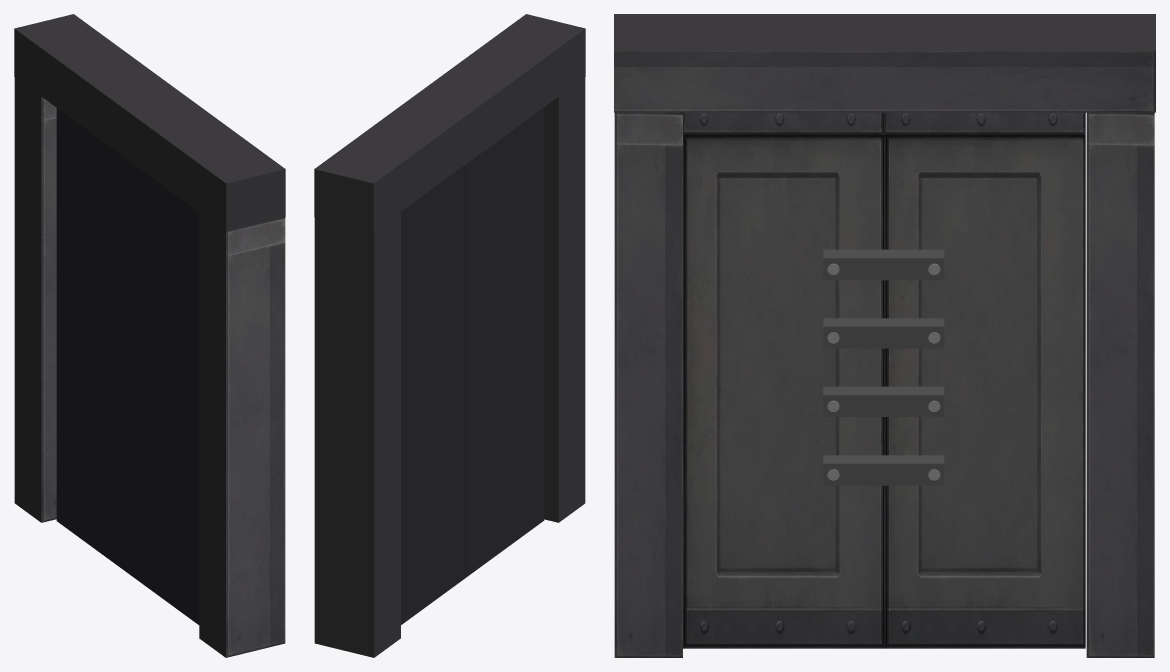
Rendered from porta.fbx.
3 renders of one model, left to right at view 1: azimuth 30°, elevation 25°; view 2: azimuth 150°, elevation 25°; view 3: azimuth 270°, elevation 25°, orthographic. The views are drawn at different scales.
Visible parts, largest first — view 1: Cube.004, Cube.000, Cube.001, Cube.003, Cube.002; view 2: Cube.002, Cube.001, Cube.000, Cube.003, Cube.004; view 3: Cube.000, Cube.001, Cube.003, Cube.004, Cube.002, Cylinder.008, Cube.010, Cube.005, Cube.011, Cube.007, Cube.006, Cube.012 (+1 smaller).
Part boxes in pixels (x1,y1,x2,y2): Cube.004: (199,212,285,657); Cube.000: (56,108,135,578); Cube.001: (135,165,199,624); Cube.003: (14,14,285,231); Cube.002: (14,77,56,522); Cube.002: (314,212,400,657); Cube.001: (465,107,544,577); Cube.000: (401,165,465,624); Cube.003: (314,14,585,231); Cube.004: (544,77,585,522); Cube.000: (884,112,1085,648); Cube.001: (683,112,883,648); Cube.003: (614,14,1155,112); Cube.004: (614,112,682,657); Cube.002: (1086,112,1154,657); Cylinder.008: (823,249,883,280); Cube.010: (884,249,944,280); Cube.005: (884,318,944,348); Cube.011: (884,455,944,485); Cube.007: (823,386,883,416); Cube.006: (823,318,883,348); Cube.012: (823,455,883,485).
Size of the model in its own units: 87.02 by 667 by 538.
